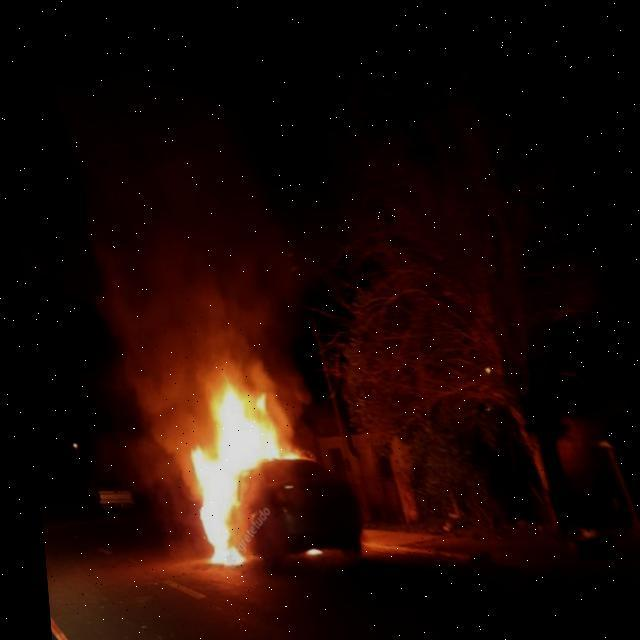Fire: (180, 362, 310, 568)
